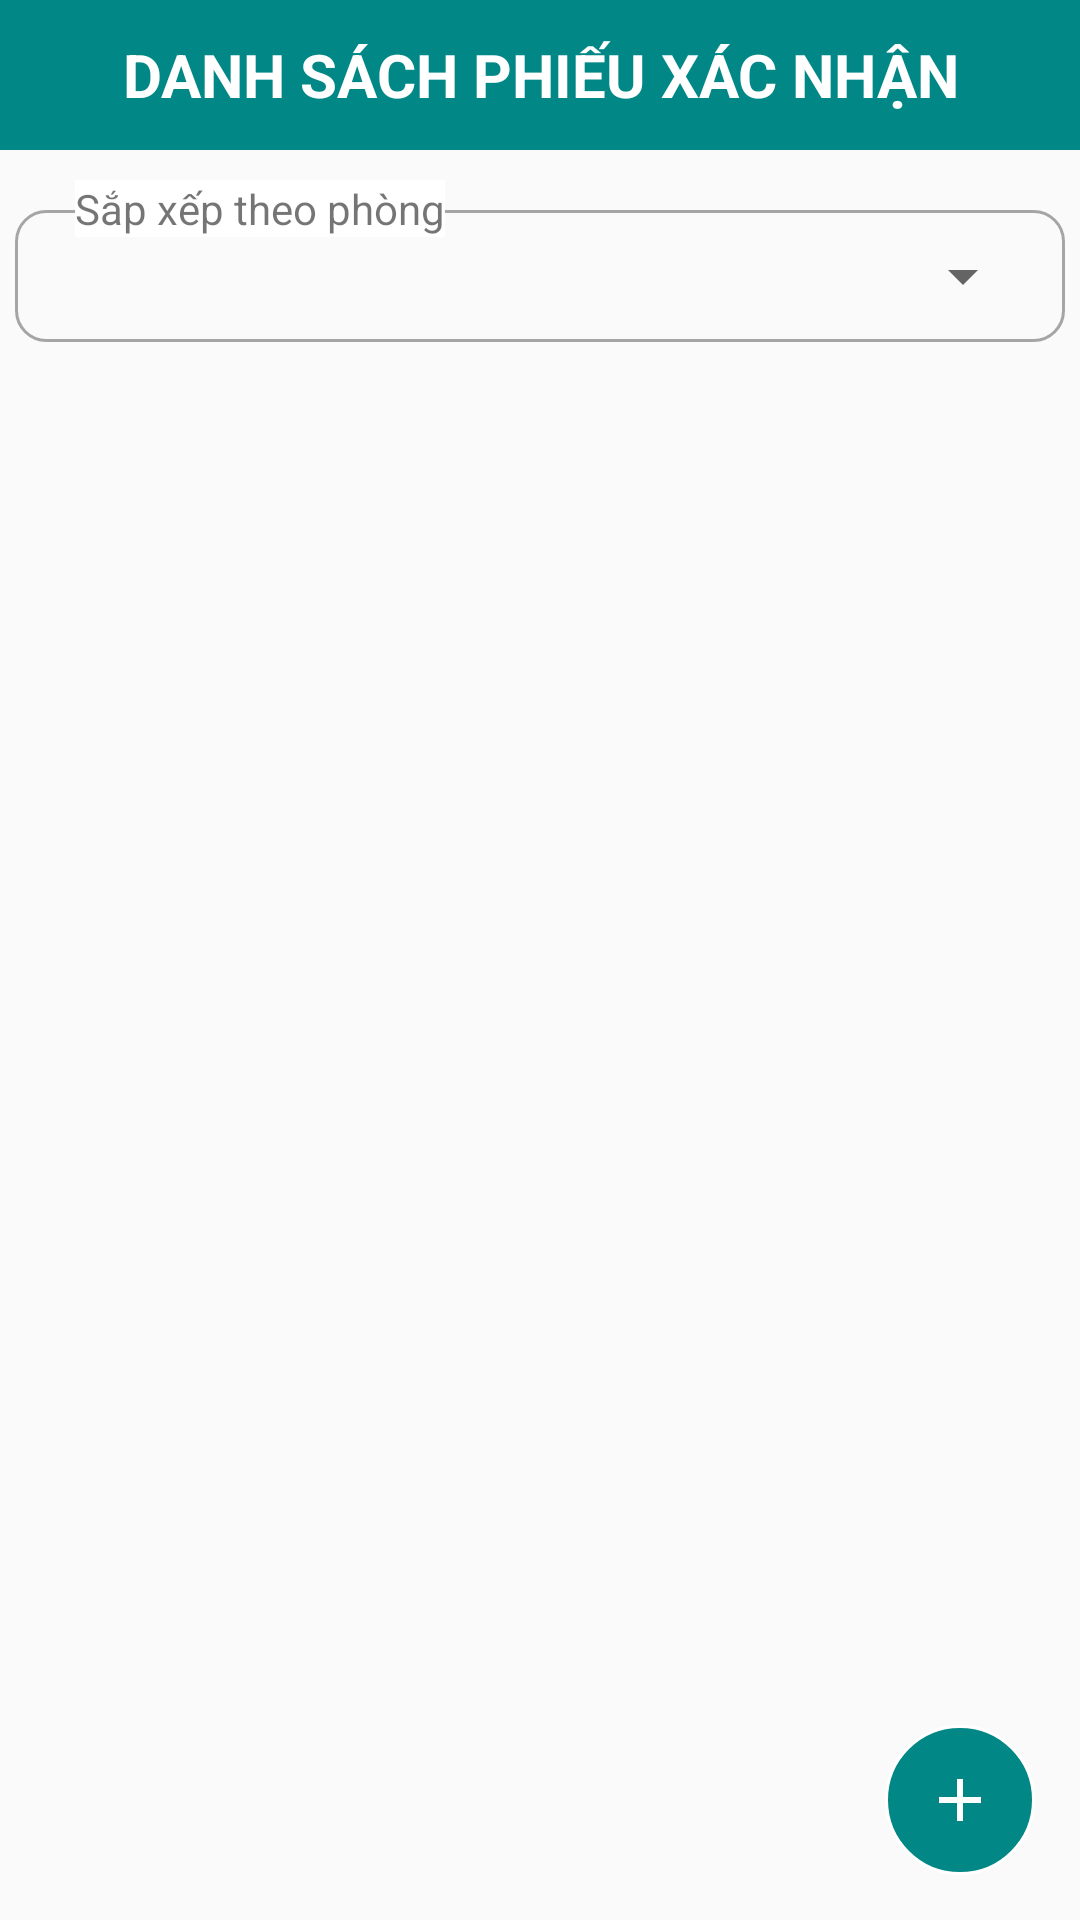

Icons on this 1080×1920 Android screen, each with its box as (x1, y1, x2, y2):
add: (939, 1779, 981, 1821)
